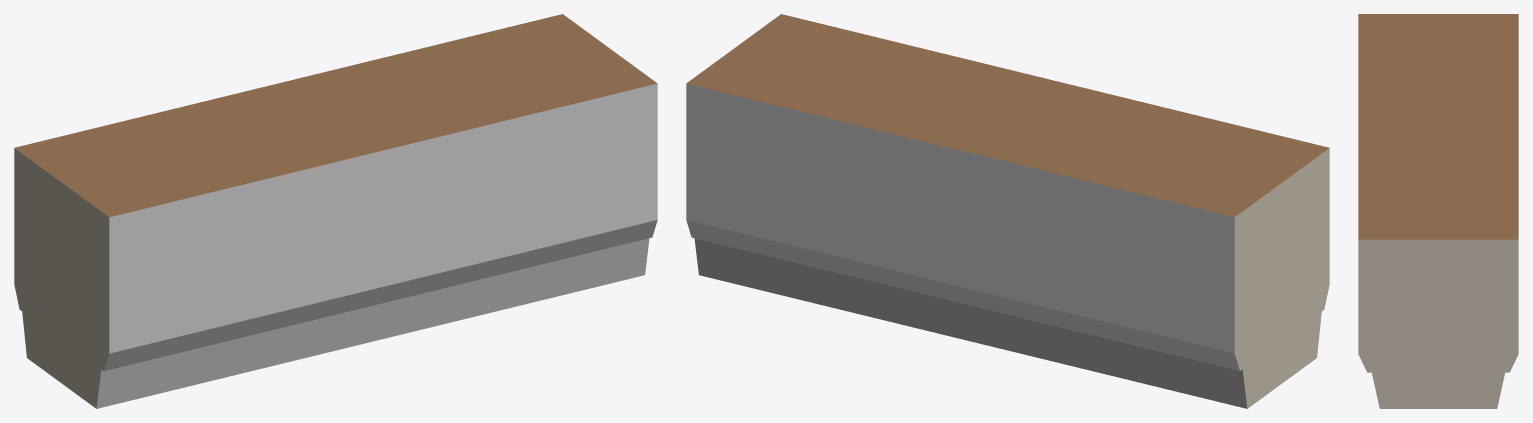
The model's file is Wall_Straight_Top.obj.
The picture shows the model from 3 angles, left to right: view 1: azimuth 30°, elevation 25°; view 2: azimuth 150°, elevation 25°; view 3: azimuth 270°, elevation 25°; orthographic projection. The views are drawn at different scales.
Parts seen in each view (by area): view 1: object1; view 2: object1; view 3: object1.
Boxes of the visible parts, x1,y1,x2,y2 form: object1: (14,14,657,408); object1: (686,14,1329,408); object1: (1358,14,1518,408).
Bounding box in the file's own units: 1 × 0.35 × 0.3.
